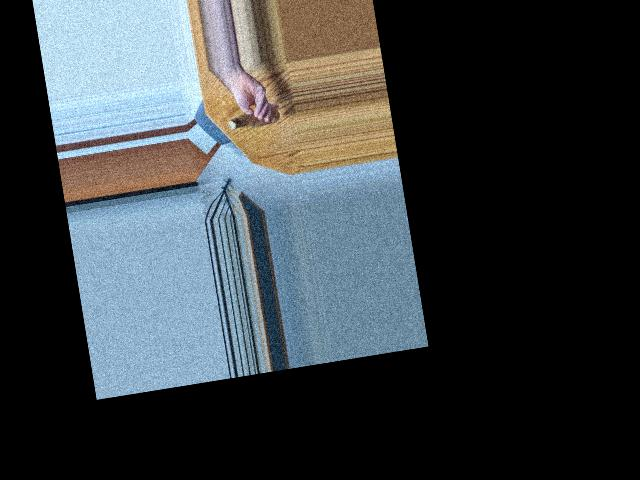sweet_potato: (230, 106, 278, 135)
